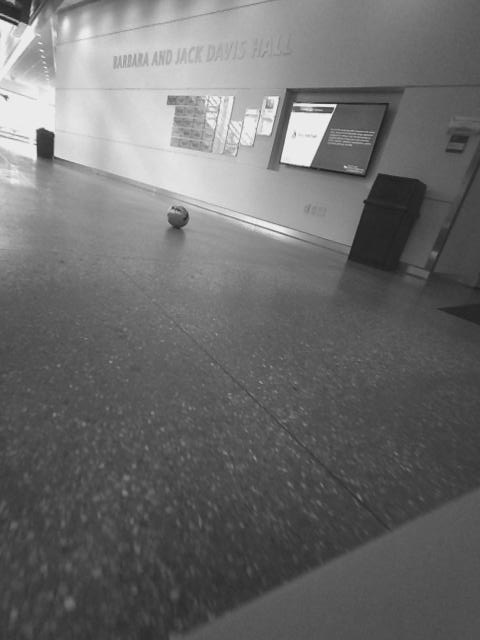ball: (164, 202, 191, 230)
